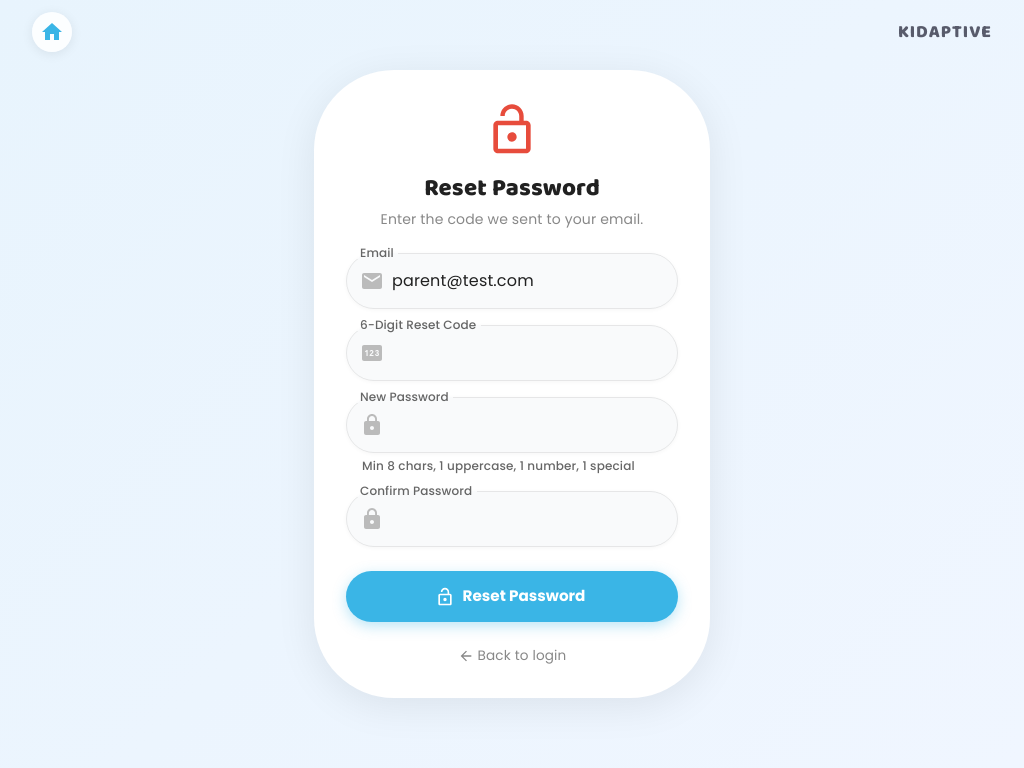
Scenario: ResetPasswordPage › shows error message when reset fails
The width and height of the screenshot is (1024, 768).
In the field labelled "6-Digit Reset Code": (535, 353) [392,325,678,381], type "999999"
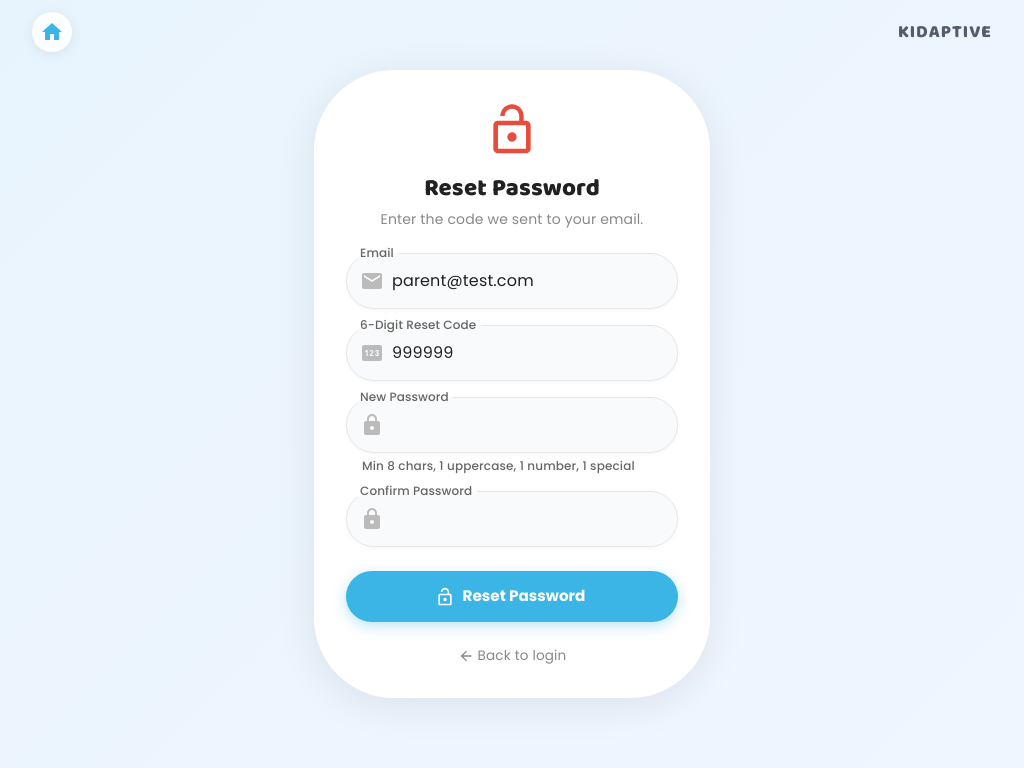
In the password field labelled "New Password": (535, 425) [392,397,678,453], type "NewPass123!"
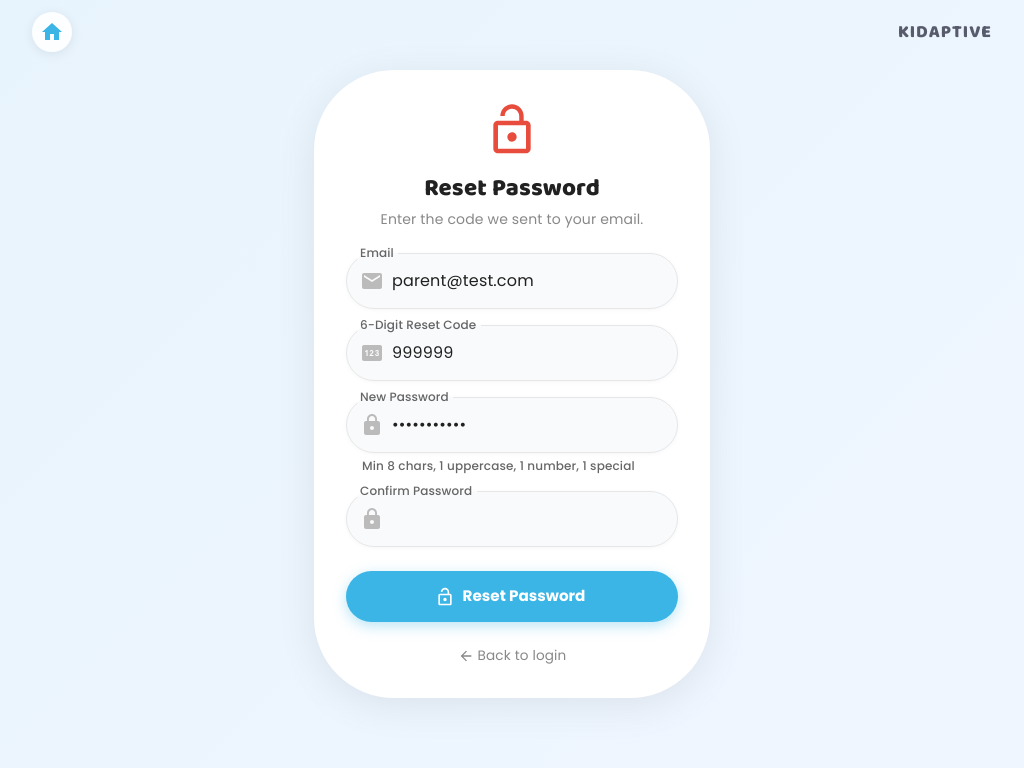
In the password field labelled "Confirm Password": (535, 520) [392,492,678,548], type "NewPass123!"
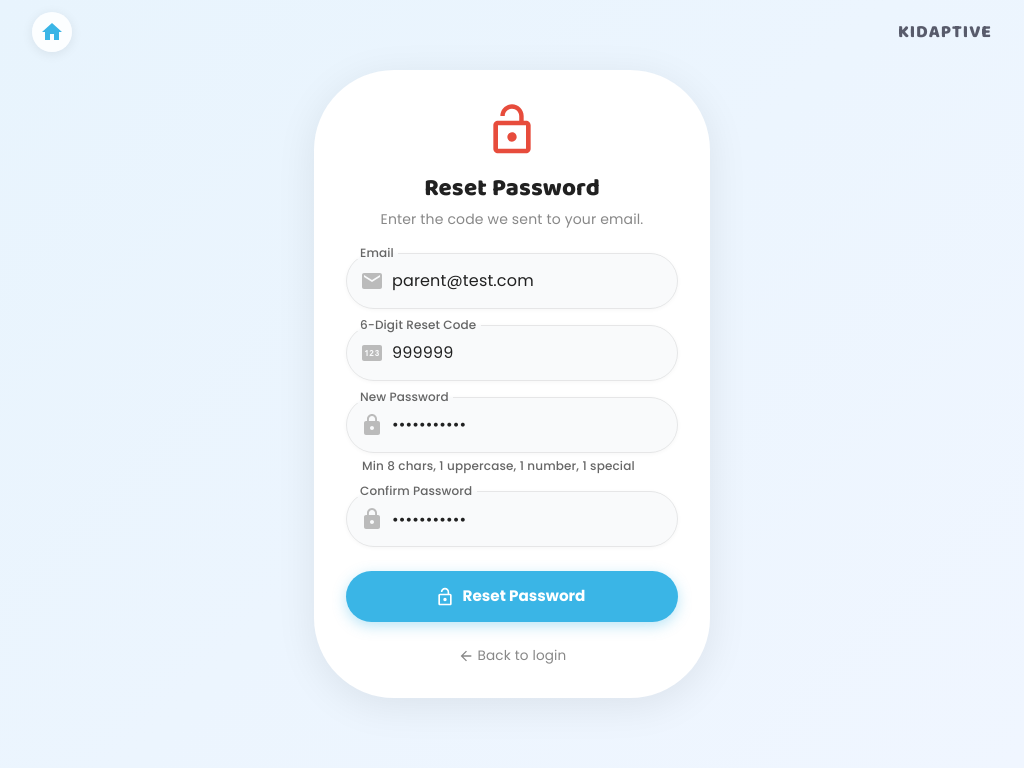
Click the button "Reset Password": (512, 597) [346,572,678,622]
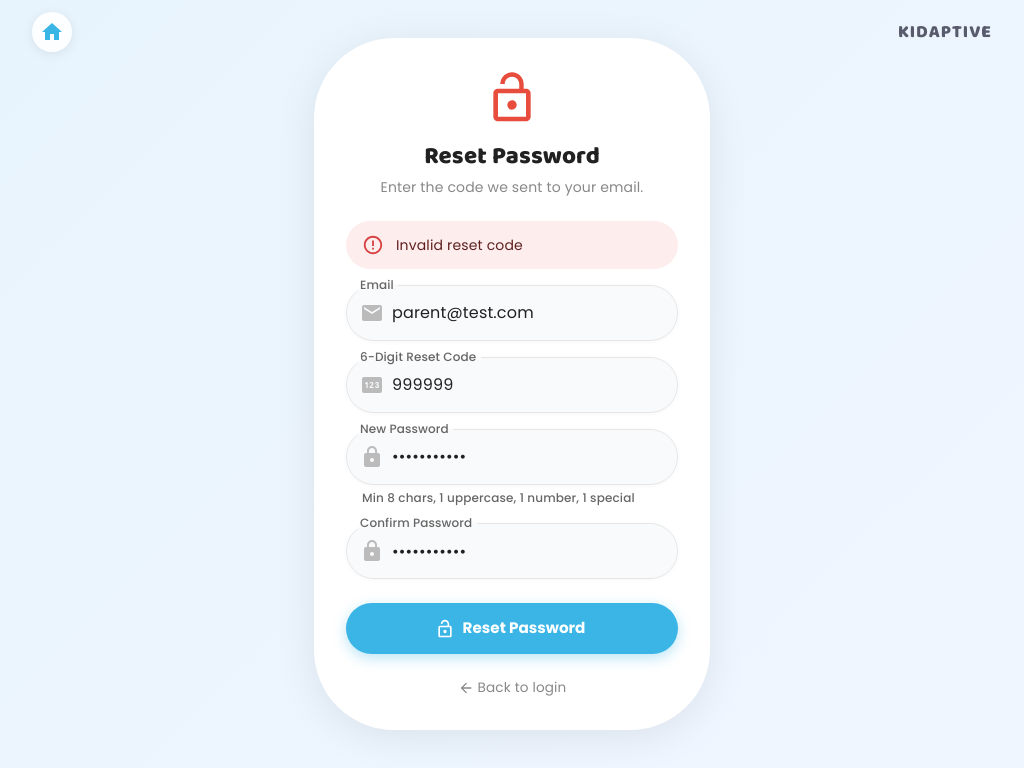
Expected: the text "Invalid reset code" is shown, [396,235,523,255]
